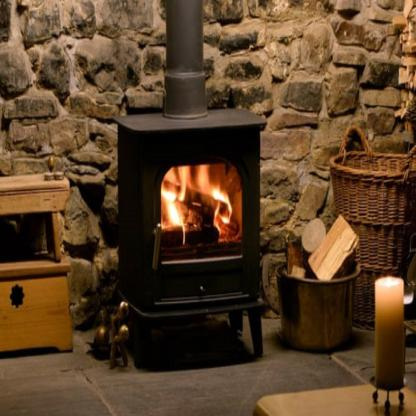fire: (159, 167, 239, 223)
